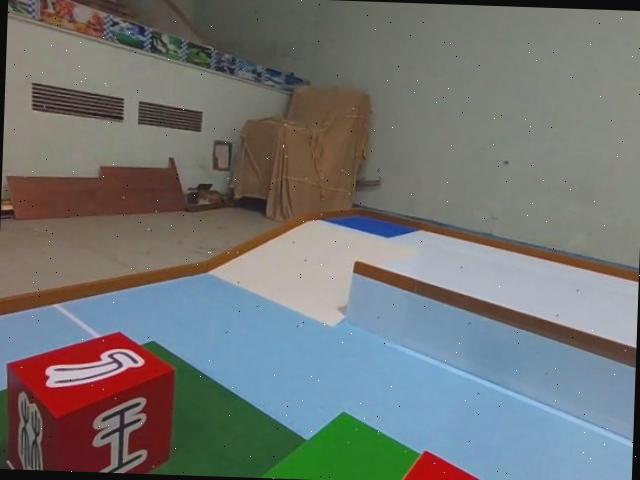R2 Fake: (0, 323, 179, 475)
